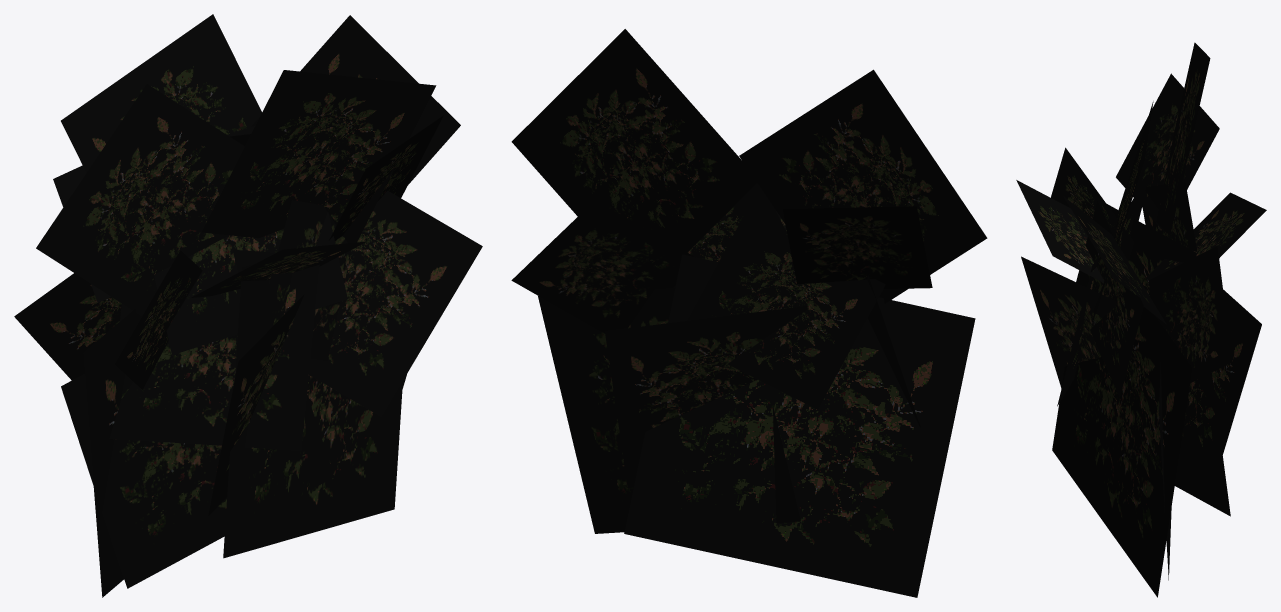
File: forest_bush_02.fbx
The picture shows the model from 3 angles, left to right: view 1: azimuth 30°, elevation 25°; view 2: azimuth 150°, elevation 25°; view 3: azimuth 270°, elevation 25°; orthographic projection. The views are drawn at different scales.
Parts seen in each view (by area): view 1: pPlane568; view 2: pPlane568; view 3: pPlane568.
Part boxes in pixels (left/top/right/bottom): pPlane568: left=14, top=14, right=482, bottom=597; pPlane568: left=511, top=29, right=987, bottom=597; pPlane568: left=1016, top=42, right=1266, bottom=597.
Bounding box in the file's own units: 311 × 342 × 165.
